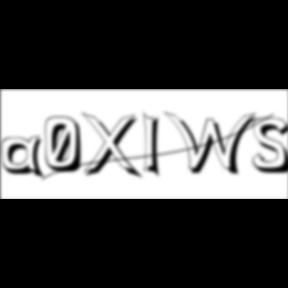0: (44, 115, 90, 174)
I: (143, 110, 167, 182)
W: (164, 110, 262, 178)
X: (81, 112, 145, 182)
a: (1, 135, 49, 182)
